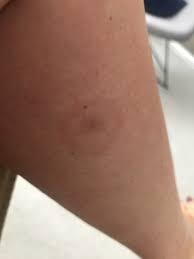Tick: (65, 102, 120, 155)
